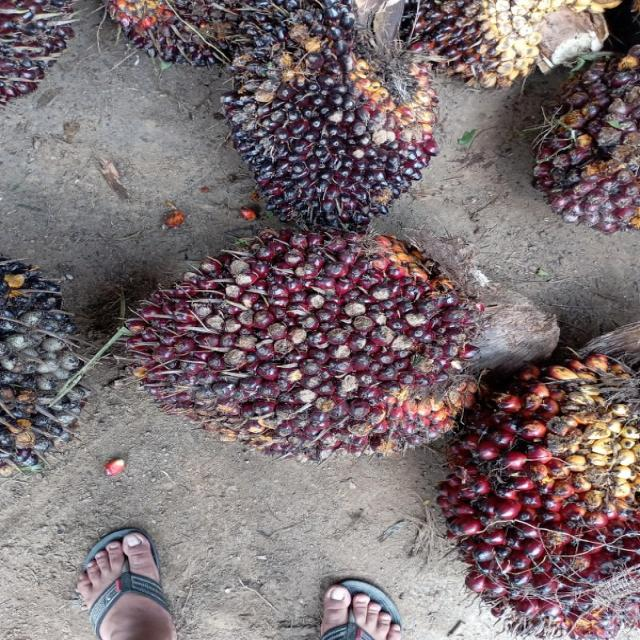fraksi 00: (219, 4, 442, 230)
fraksi 1: (120, 223, 482, 450), (440, 350, 640, 615)
